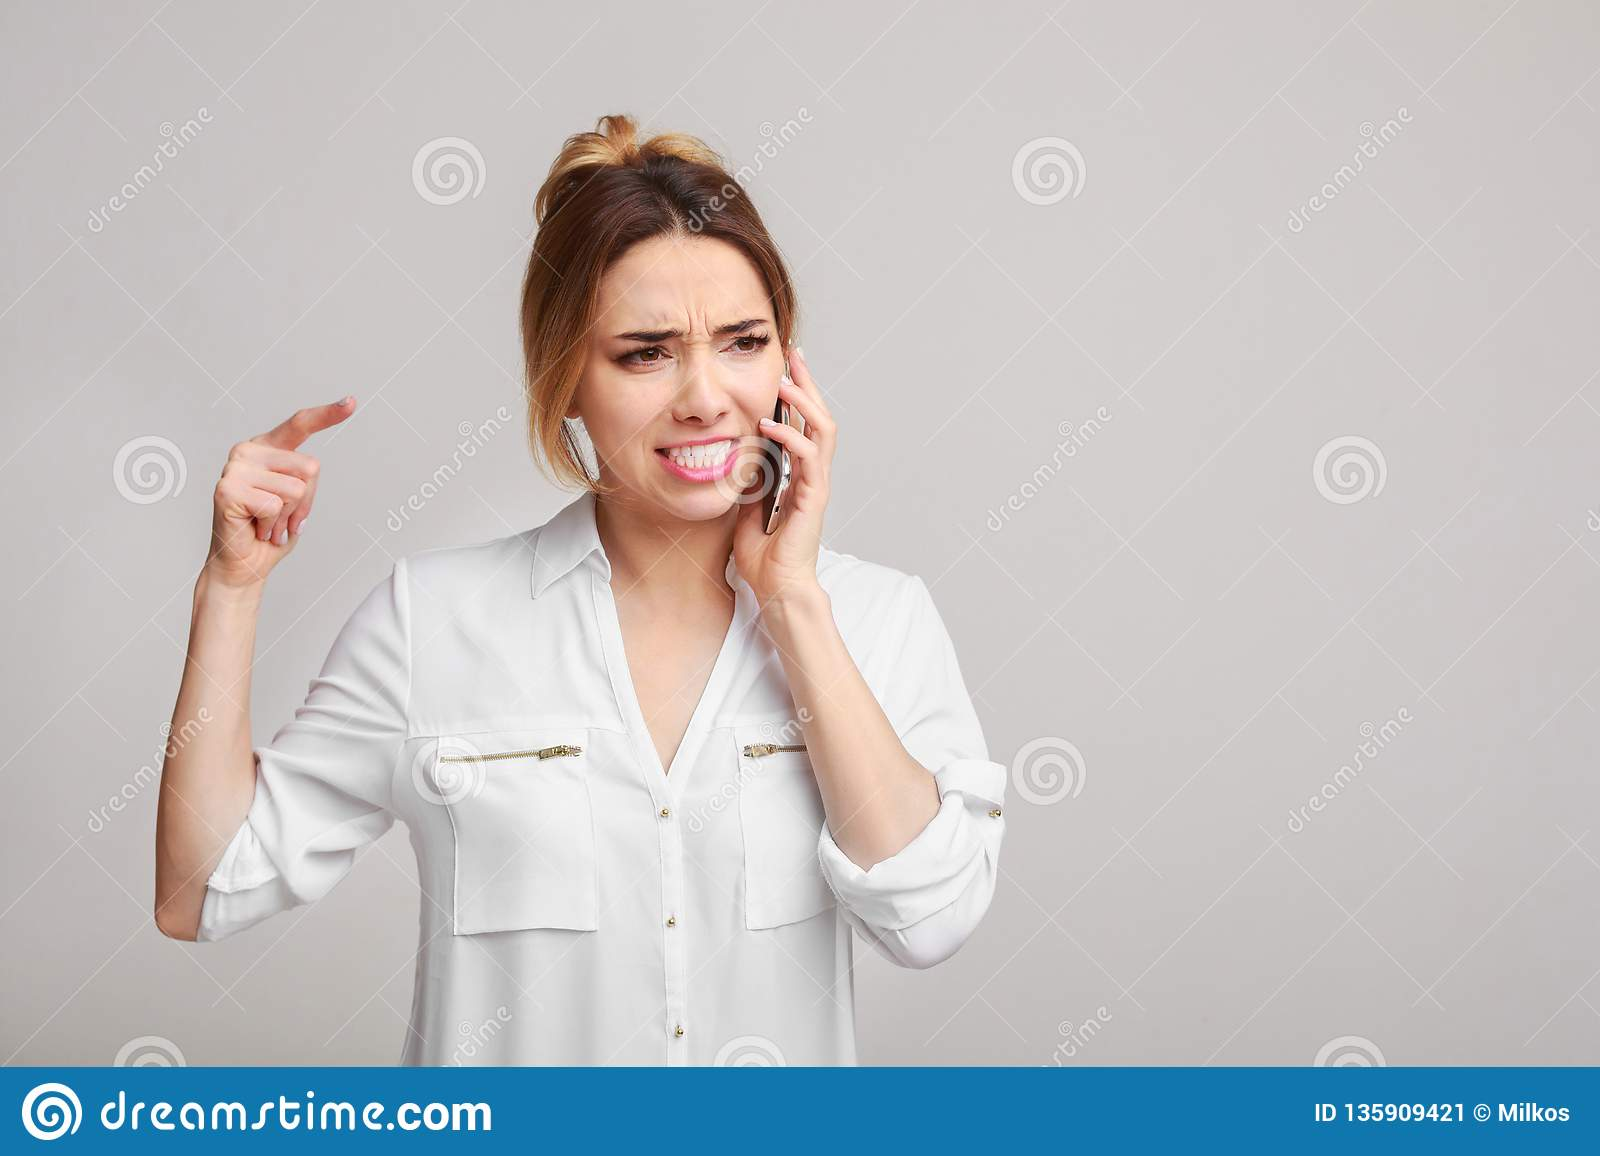phone: (761, 361, 798, 543)
talk: (593, 305, 840, 627)
